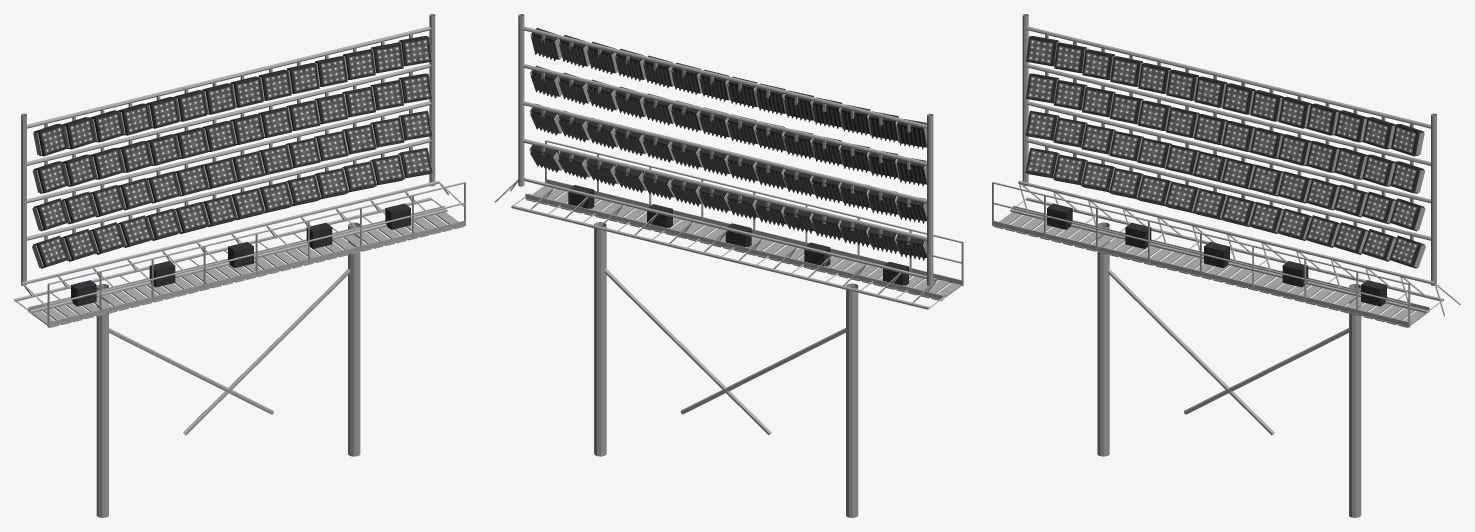
The model's file is light_bank_hero.glb.
3 views of the same model, side by side, from view 1: azimuth 30°, elevation 25°; view 2: azimuth 150°, elevation 25°; view 3: azimuth 330°, elevation 25° (orthographic).
Visible parts, largest first — view 1: light_bank_hero_steel, light_bank_hero_lens, light_bank_hero_housing; view 2: light_bank_hero_steel, light_bank_hero_housing; view 3: light_bank_hero_steel, light_bank_hero_lens, light_bank_hero_housing.
Part boxes in pixels (box(x1,y1,x2,y2)): light_bank_hero_steel: box(14, 14, 465, 517); light_bank_hero_lens: box(39, 38, 430, 264); light_bank_hero_housing: box(33, 36, 432, 306); light_bank_hero_steel: box(494, 14, 963, 517); light_bank_hero_housing: box(530, 28, 926, 285); light_bank_hero_steel: box(992, 14, 1460, 517); light_bank_hero_lens: box(1027, 38, 1418, 264); light_bank_hero_housing: box(1025, 36, 1424, 306).
Bounding box in the file's own units: 11.13 × 10.26 × 1.56.
Materials: 3 (1 with a texture image).
